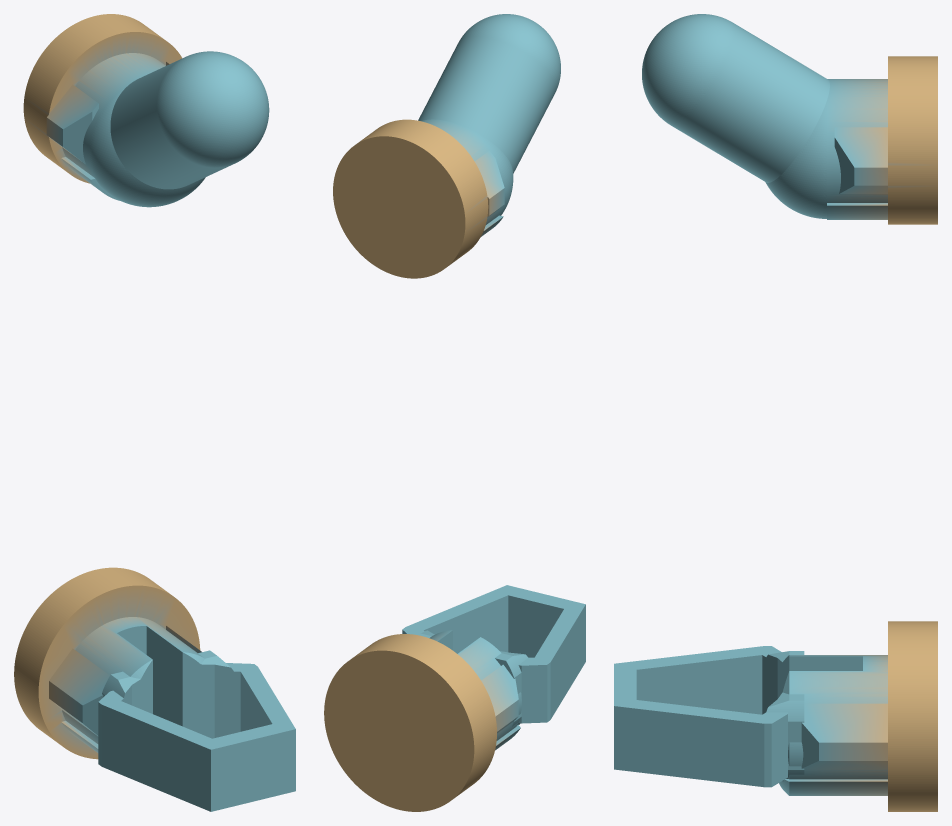
The model's file is pair-upright.glb.
3 views of the same model, side by side, from view 1: azimuth 30°, elevation 25°; view 2: azimuth 150°, elevation 25°; view 3: azimuth 270°, elevation 25° (orthographic). The views are drawn at different scales.
Visible parts, largest first — view 1: peg-pair-upright__v1__pf02c9-hoop5__nub120.stl; view 2: peg-pair-upright__v1__pf02c9-hoop5__nub120.stl; view 3: peg-pair-upright__v1__pf02c9-hoop5__nub120.stl.
Part boxes in pixels (left/top/right/bottom): peg-pair-upright__v1__pf02c9-hoop5__nub120.stl: left=14, top=14, right=295, bottom=811; peg-pair-upright__v1__pf02c9-hoop5__nub120.stl: left=324, top=14, right=585, bottom=811; peg-pair-upright__v1__pf02c9-hoop5__nub120.stl: left=614, top=14, right=937, bottom=811.
Bounding box in the file's own units: 0.00762 × 0.0345 × 0.0129.
